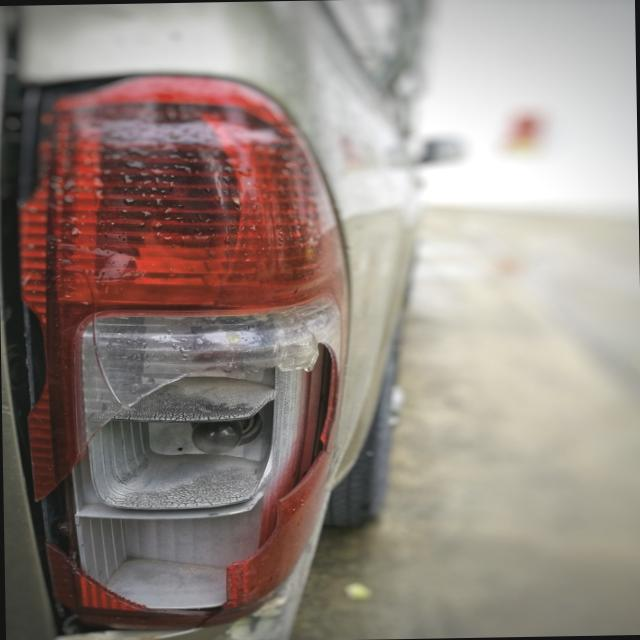Phare abime: (27, 340, 356, 619)
